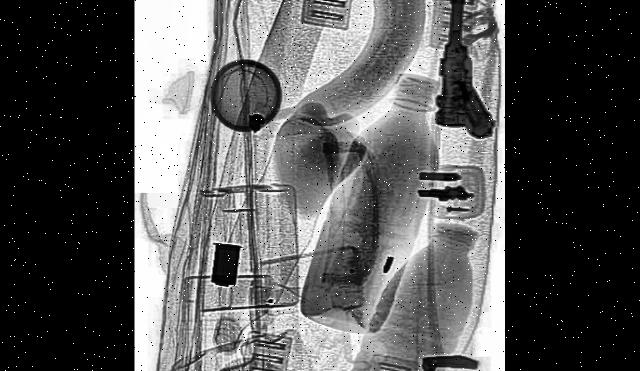Gun: (418, 0, 499, 164)
